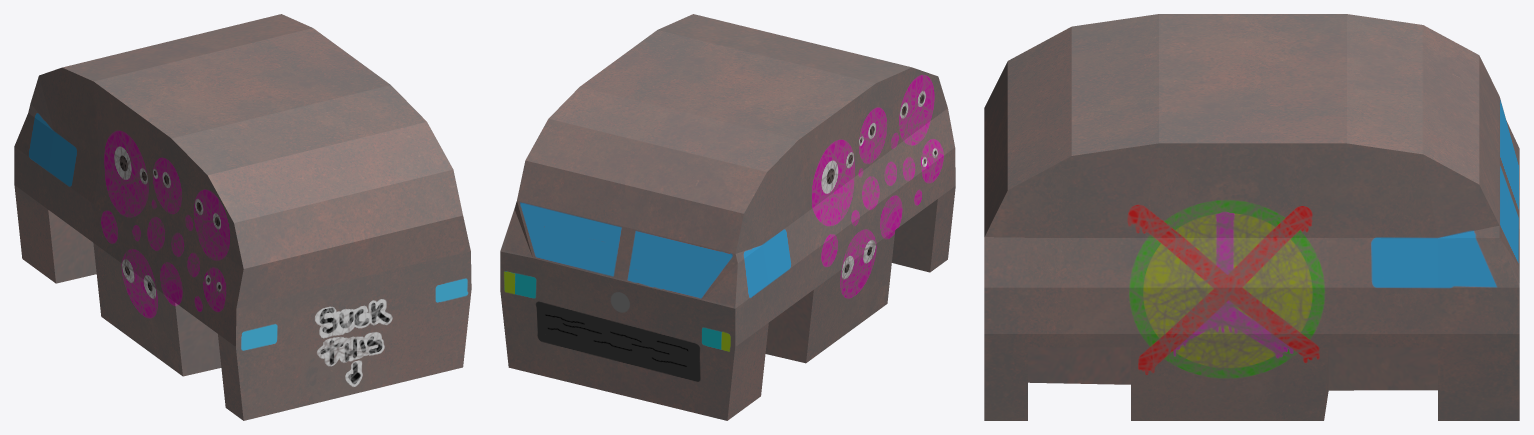
File: Enemigo_2.glb
3 views of the same model, side by side, from view 1: azimuth 30°, elevation 25°; view 2: azimuth 150°, elevation 25°; view 3: azimuth 270°, elevation 25° (orthographic). The views are drawn at different scales.
Parts seen in each view (by area): view 1: Cube; view 2: Cube; view 3: Cube.
Part boxes in pixels (x1,y1,x2,y2): Cube: (14, 14, 471, 420); Cube: (500, 14, 955, 420); Cube: (984, 14, 1519, 420).
Size of the model in its own units: 3.79 by 3.54 by 6.17.
Materials: 1 (1 with a texture image).
